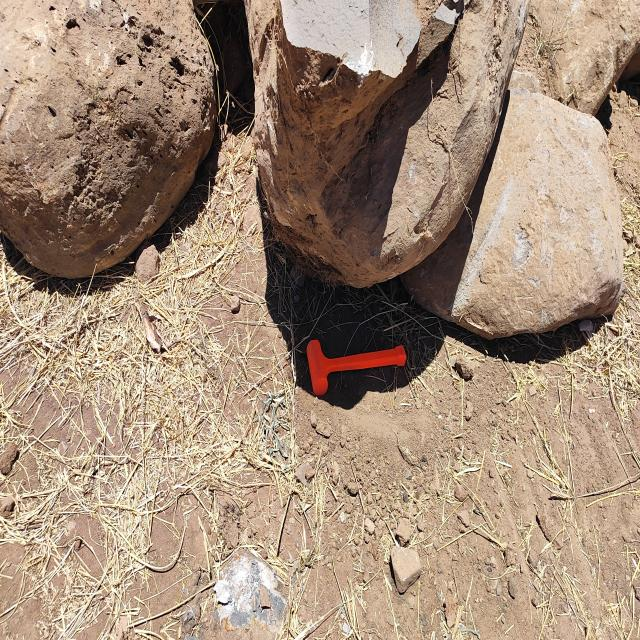Orange_hammer: (306, 338, 406, 397)
